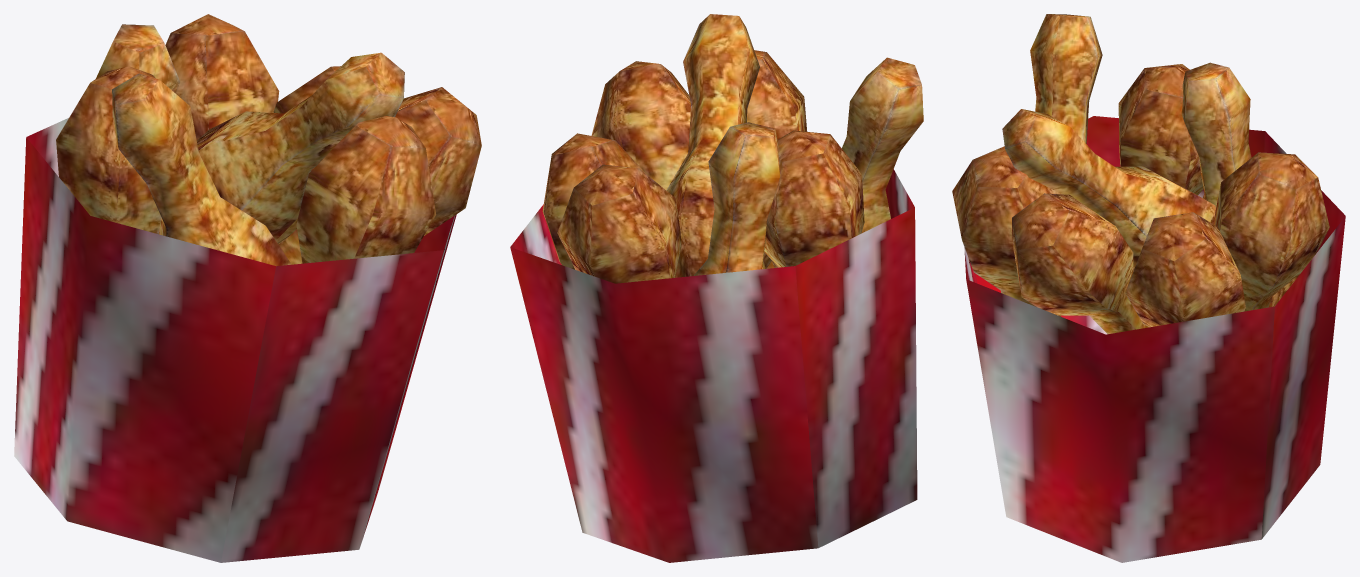
Rendered from Fried_chicken.glb.
3 renders of one model, left to right at view 1: azimuth 30°, elevation 25°; view 2: azimuth 150°, elevation 25°; view 3: azimuth 270°, elevation 25°, orthographic. The views are drawn at different scales.
Parts seen in each view (by area): view 1: Fried_chicken; view 2: Fried_chicken; view 3: Fried_chicken.
Part boxes in pixels (x1,y1,x2,y2): Fried_chicken: (14,14,481,562); Fried_chicken: (510,14,923,562); Fried_chicken: (952,14,1345,562).
Bounding box in the file's own units: 0.2704 × 0.3263 × 0.2656.
1 material, 1 textured.
